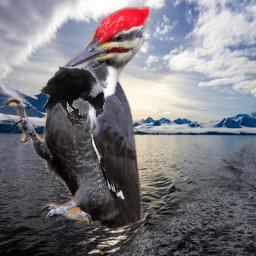Crow: (40, 66, 106, 126)
Woodpecker: (3, 6, 150, 231)
